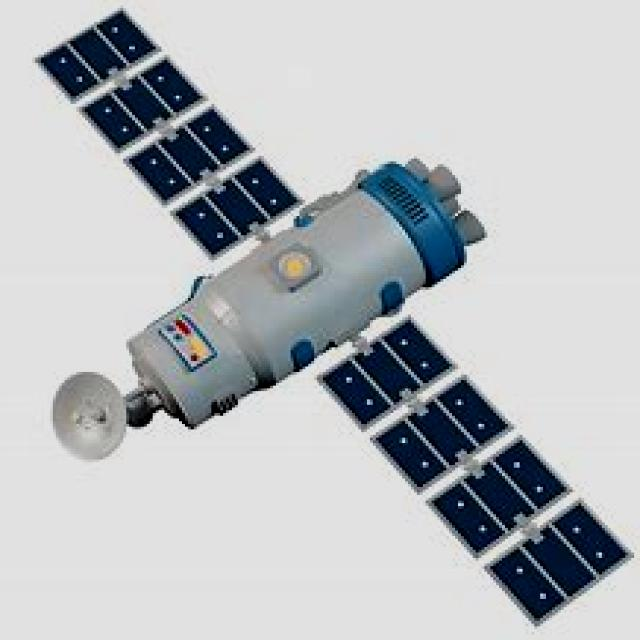satellite: (31, 11, 622, 608)
